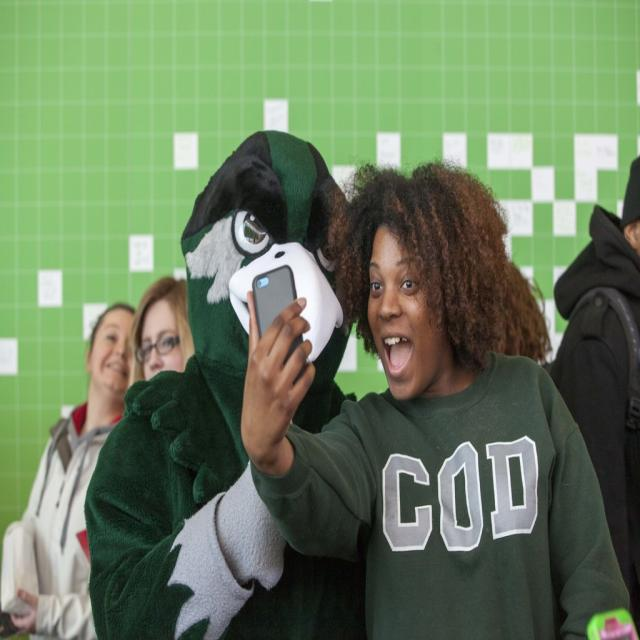Mobile-phone: (252, 264, 310, 381)
